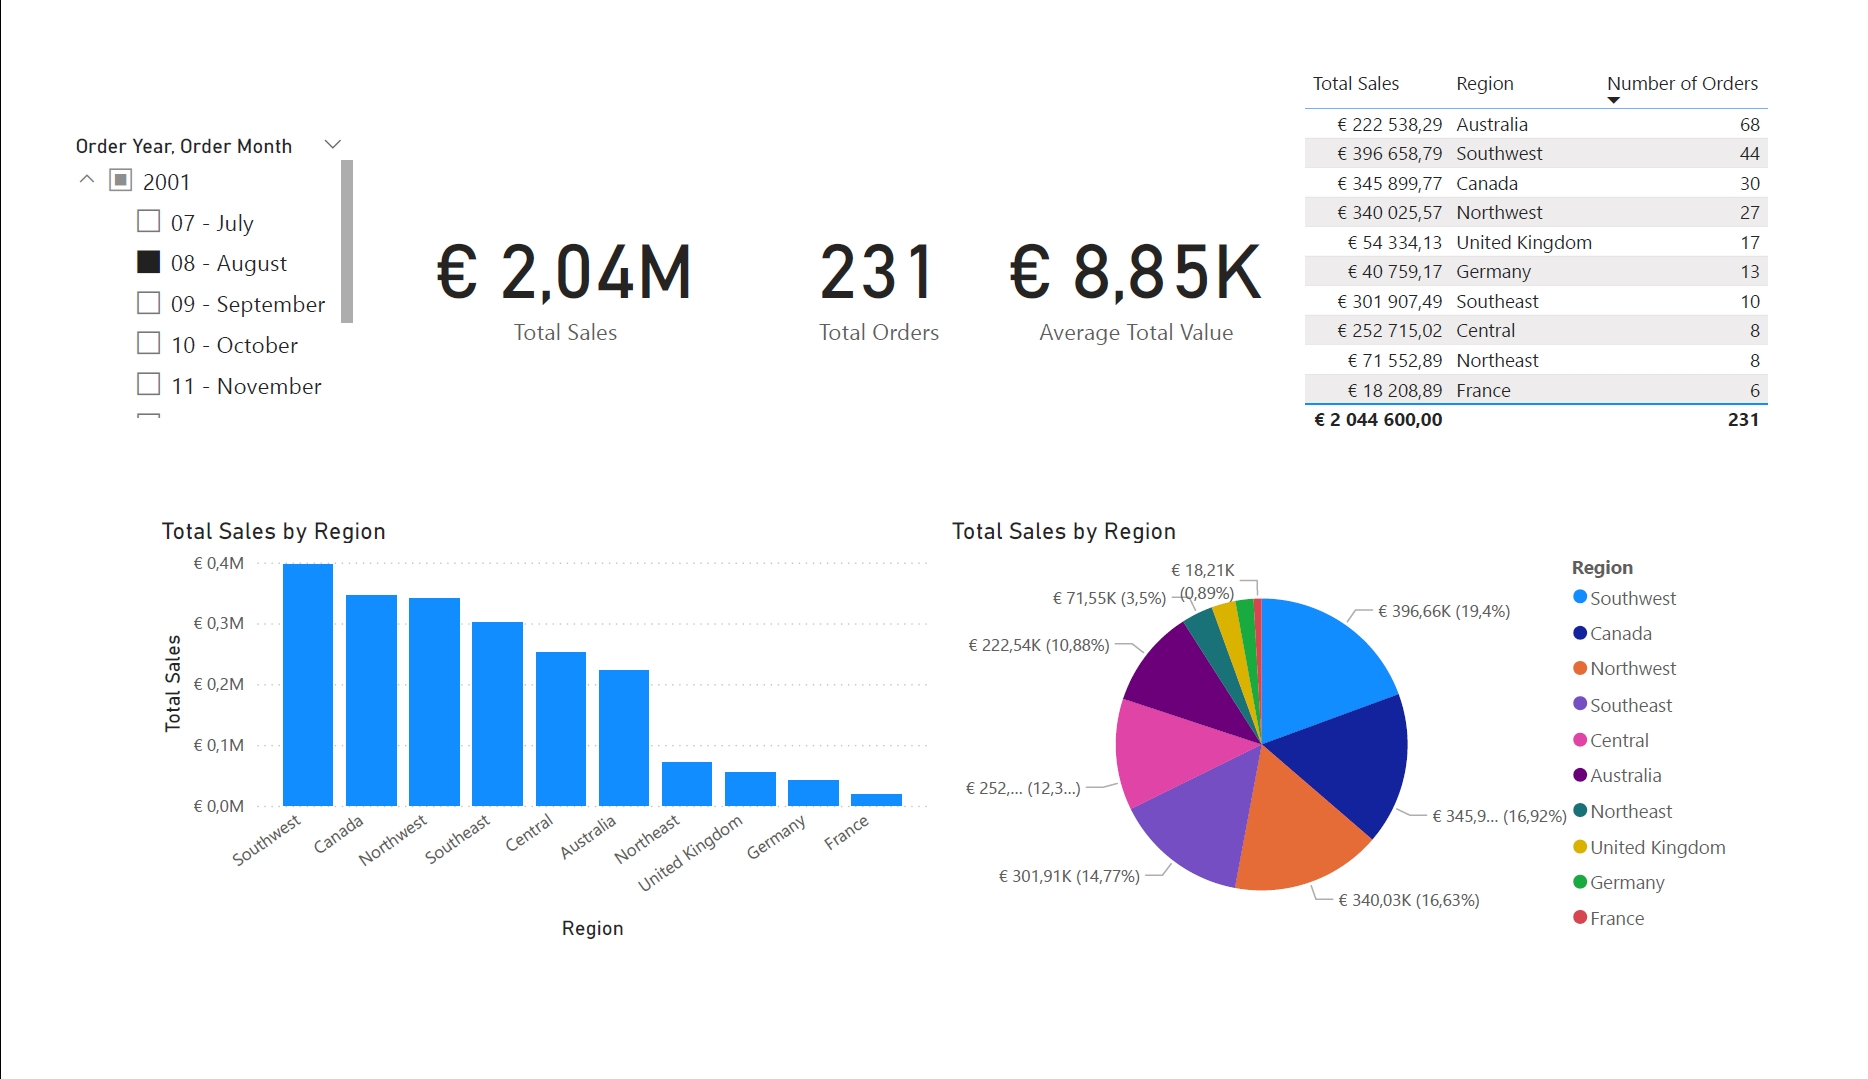

Layout of this report page (visuals, bound fields, positions):
{"tool":"powerbi","page":{"name":"tactical","canvas":[1280,720],"ordinal":2},"visuals":[{"type":"card","fields":{"Values":["Sales SalesOrderDetail.Total Sales"]},"box":[231.9,49.6,290.9,246.7],"z":0},{"type":"slicer","fields":{"Values":["Sales SalesOrderHeader.OrderYear","Sales SalesOrderHeader.OrderMonth"]},"box":[15.8,66.9,215.2,211.6],"z":1000},{"type":"card","fields":{"Values":["Sales SalesOrderHeader.Total Orders"]},"box":[521.2,50.2,159.3,245.6],"z":2000},{"type":"card","fields":{"Values":["Sales SalesOrderDetail.Average Total Value"]},"box":[680.3,50.2,206.7,245.6],"z":3000},{"type":"clusteredColumnChart","fields":{"Category":["Sales SalesTerritory.Name"],"Y":["Sum(Sales SalesOrderDetail.LineTotal)"]},"box":[85.1,342.9,554.4,306.4],"z":4000},{"type":"tableEx","fields":{"Values":["Sum(Sales SalesOrderDetail.LineTotal)","Sales SalesTerritory.Name","Sales SalesOrderHeader.Number of Orders"]},"box":[898.5,19.8,368.4,306.4],"z":5000},{"type":"pieChart","fields":{"Category":["Sales SalesTerritory.Name"],"Y":["Sales SalesOrderDetail.Total Sales"]},"box":[646.8,342.9,570.2,306.4],"z":6000}]}

Visuals, with their boxes in screenshot pixels (x1, y1, x2, y2), scaled from the page's 1280x720 canvas onto the 1868x1079 screenshot:
card - Sales SalesOrderDetail.Total Sales: l=338, t=74, r=763, b=444
slicer - Sales SalesOrderHeader.OrderYear x Sales SalesOrderHeader.OrderMonth: l=23, t=100, r=337, b=417
card - Sales SalesOrderHeader.Total Orders: l=761, t=75, r=993, b=443
card - Sales SalesOrderDetail.Average Total Value: l=993, t=75, r=1294, b=443
clusteredColumnChart - Sales SalesTerritory.Name x Sum(Sales SalesOrderDetail.LineTotal): l=124, t=514, r=933, b=973
tableEx - Sum(Sales SalesOrderDetail.LineTotal) x Sales SalesTerritory.Name: l=1311, t=30, r=1849, b=489
pieChart - Sales SalesTerritory.Name x Sales SalesOrderDetail.Total Sales: l=944, t=514, r=1776, b=973
